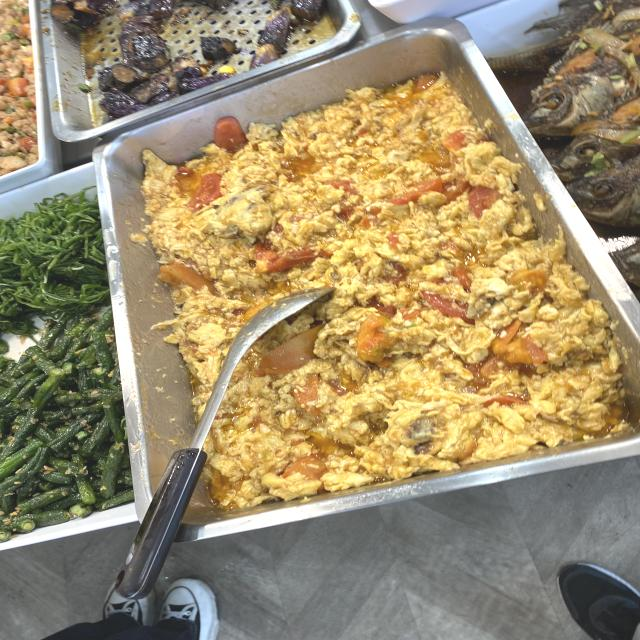Scramble Egg with Tomatoes: (206, 150, 477, 276)
